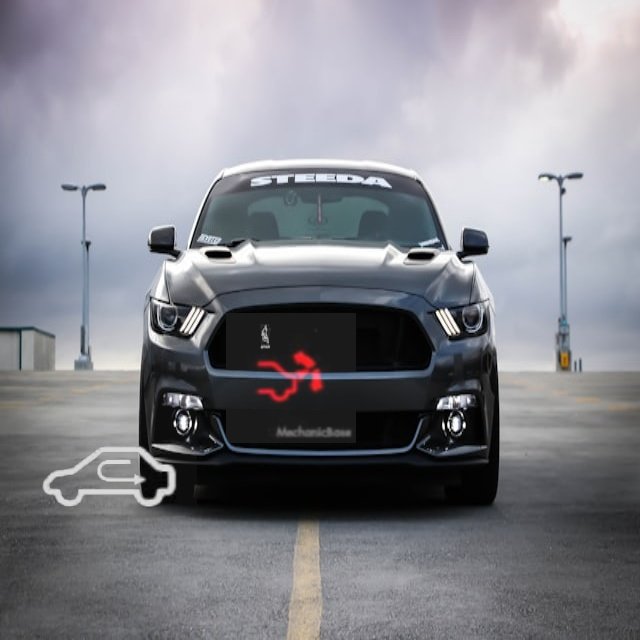symbol: (22, 391, 197, 566), (226, 313, 356, 443)
